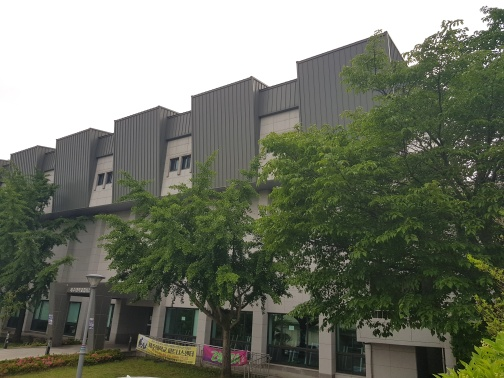Gym: (15, 38, 455, 372), (47, 64, 258, 210), (44, 269, 161, 354)
